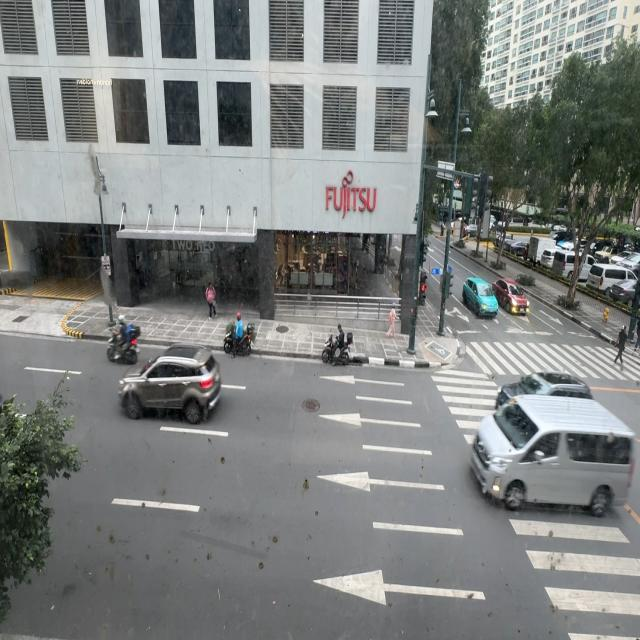crossing: (613, 326, 628, 364)
pedestrain: (205, 282, 218, 321), (386, 303, 397, 339)
